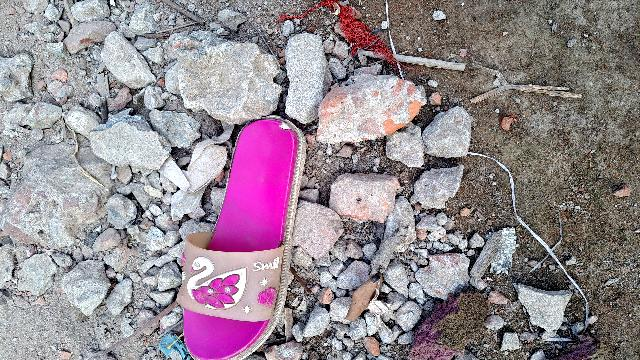sandal: (172, 108, 325, 360)
